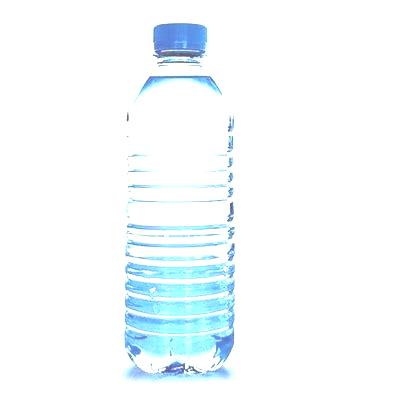bottle: (122, 22, 239, 376)
